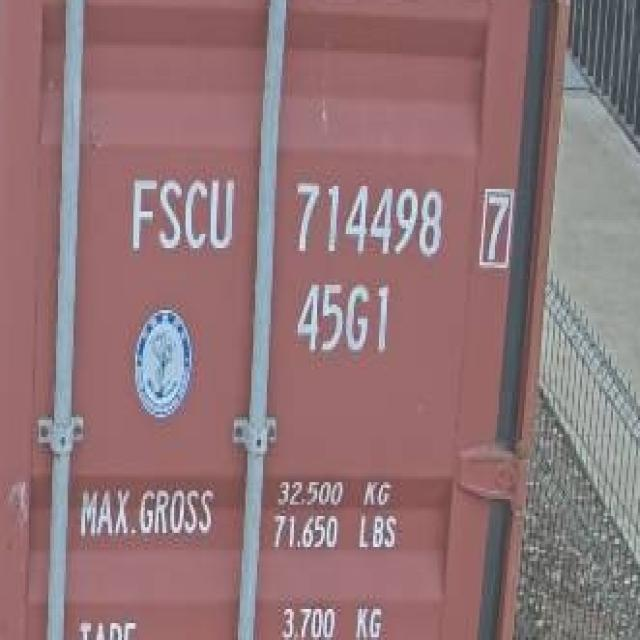dv: (470, 180, 516, 275)
owner: (117, 164, 241, 258)
serial: (282, 169, 452, 265)
size: (290, 278, 400, 362)
